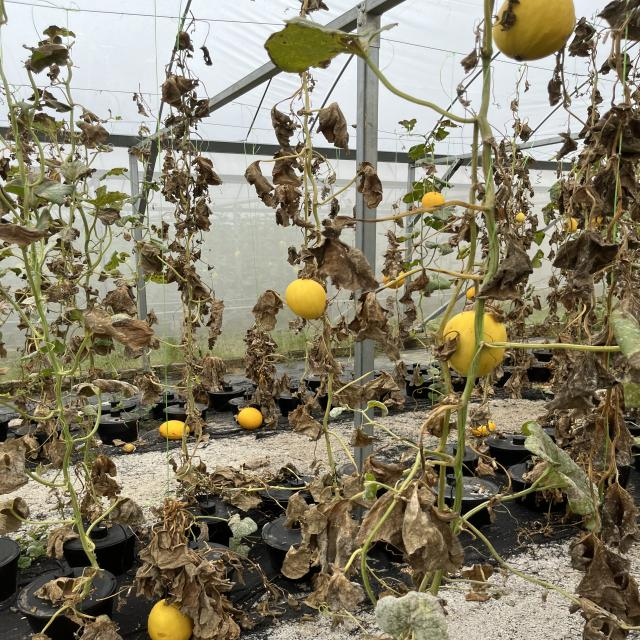CMV: (518, 423, 604, 519), (54, 156, 96, 183)
bacterial wilt: (568, 538, 640, 614), (469, 225, 533, 306), (64, 304, 158, 352), (543, 358, 608, 415), (552, 227, 618, 278), (400, 488, 447, 552), (357, 495, 416, 545), (598, 488, 640, 557), (304, 501, 354, 554), (356, 290, 396, 348), (321, 571, 367, 615), (308, 320, 342, 376), (321, 101, 358, 150), (154, 71, 198, 109), (266, 100, 295, 151), (272, 183, 306, 226), (75, 116, 112, 154), (99, 284, 142, 316), (252, 286, 284, 326), (0, 222, 49, 246)
downy mildew: (374, 583, 451, 640)
